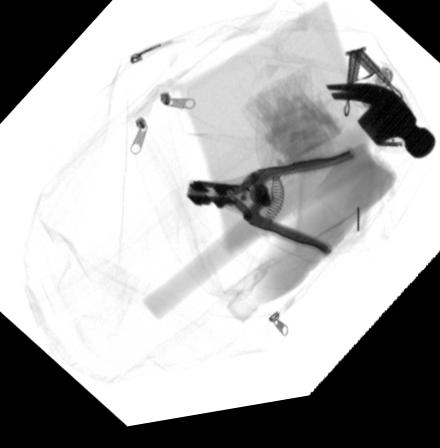Hammer: (142, 94, 437, 325)
Pliers: (186, 161, 354, 266)
